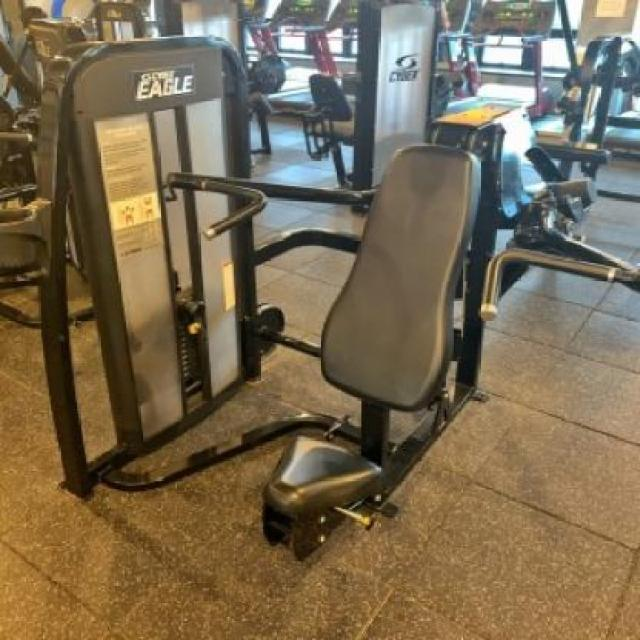shoulder press machine: (32, 32, 640, 571)
